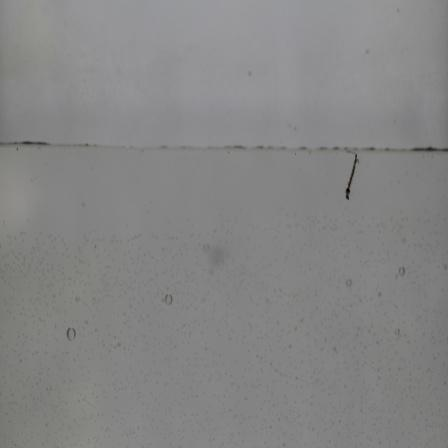Jentik-Nyamuk: (340, 151, 365, 201)
